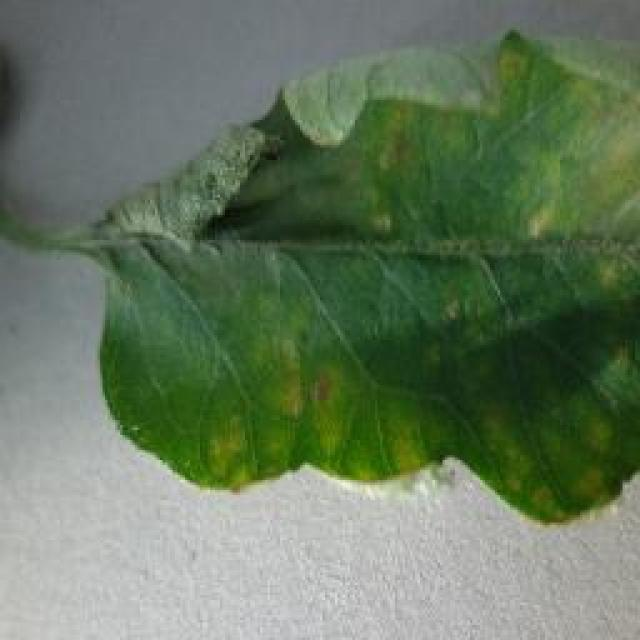Tomato Late Blight: (187, 140, 418, 540)
